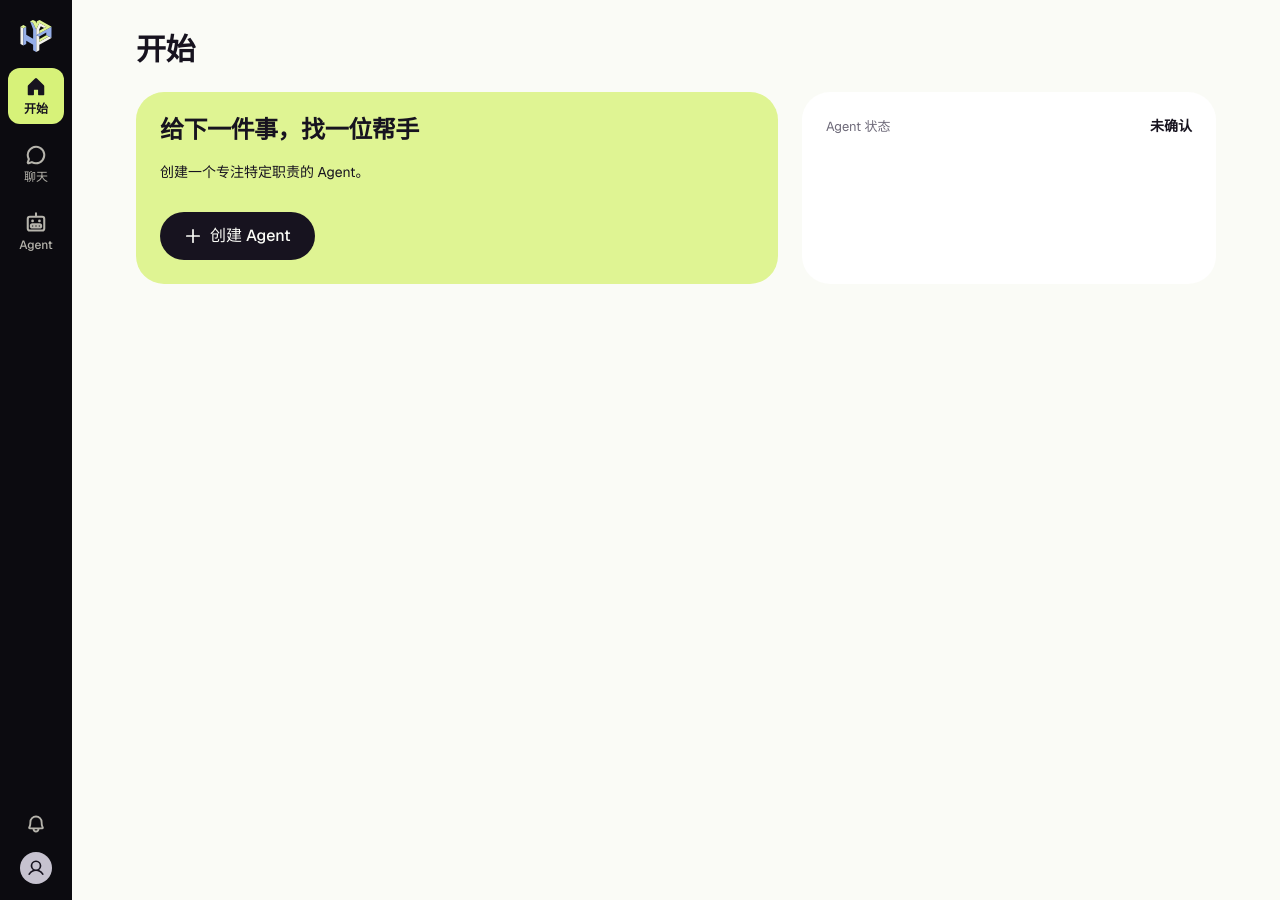
Test: agents directory (read-side wiring) › keeps the create entry available with an empty list
Step 1. Click the button "Agent" → (36, 232), box top-left (8, 204), bottom-right (64, 260)
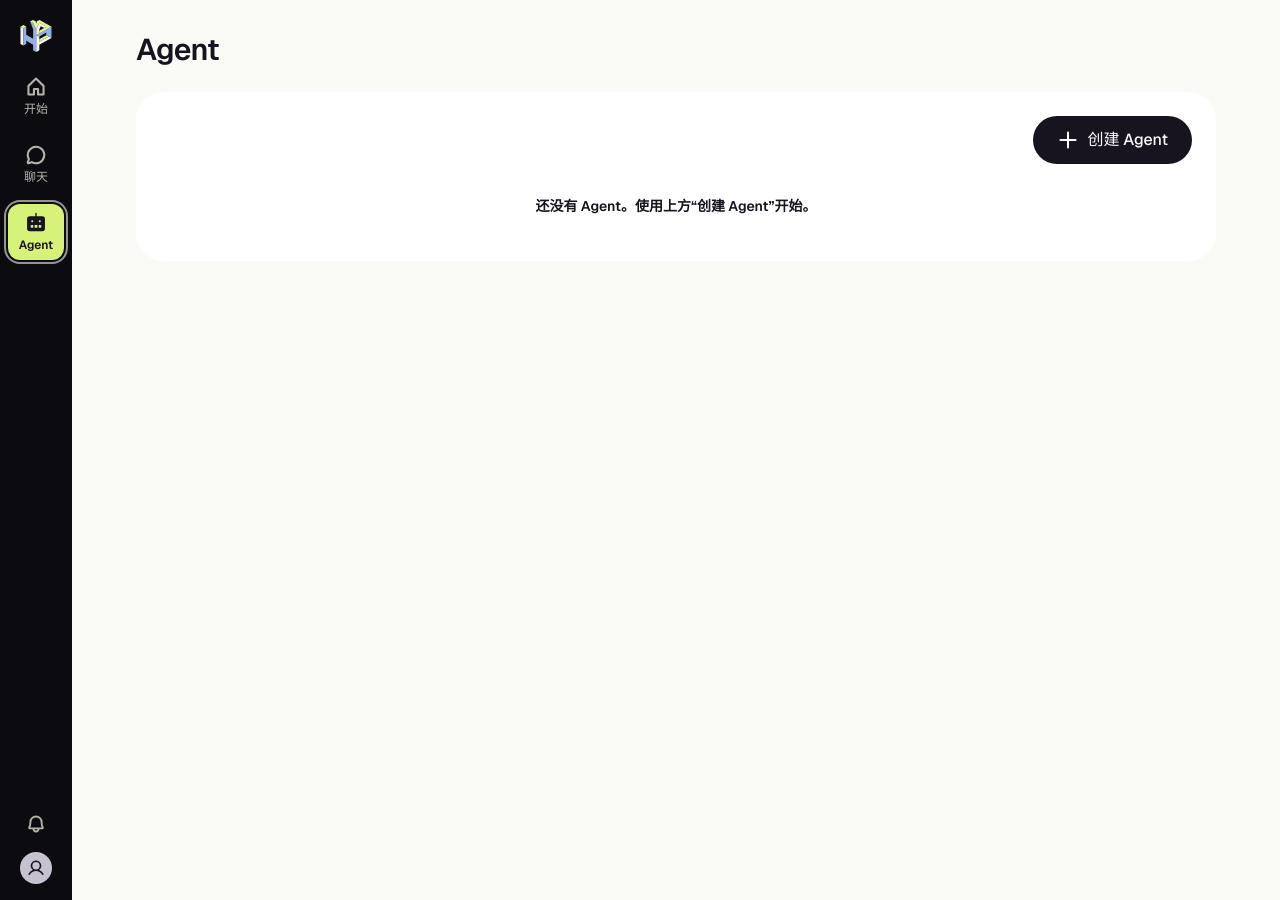
expect the button "创建 Agent" is enabled: met, box top-left (1033, 116), bottom-right (1192, 164)
expect the text "还没有 Agent。使用上方“创建 Agent”开始。" is shown: met, box top-left (536, 197), bottom-right (816, 215)
